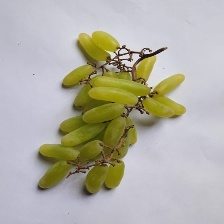grapes: (15, 32, 185, 179)
